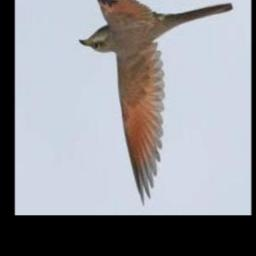Cuckoo: (79, 0, 232, 205)
